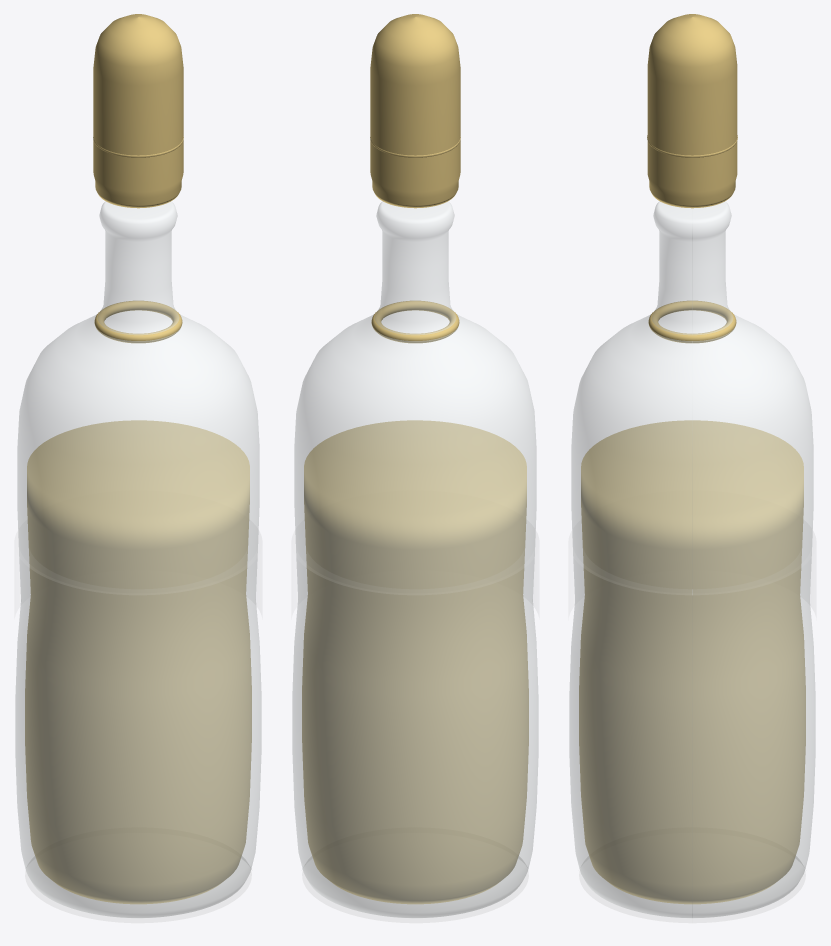
The model's file is perfume-bottle.glb.
3 renders of one model, left to right at view 1: azimuth 30°, elevation 25°; view 2: azimuth 150°, elevation 25°; view 3: azimuth 270°, elevation 25°, orthographic.
Visible parts, largest first — view 1: BottleBody, Liquid, Cap, Base, NeckRing; view 2: BottleBody, Liquid, Cap, Base, NeckRing; view 3: BottleBody, Liquid, Cap, Base, NeckRing.
Part boxes in pixels (x1,y1,x2,y2): BottleBody: (15,201,261,917); Liquid: (25,420,251,904); Cap: (93,14,183,208); Base: (25,856,251,923); NeckRing: (94,300,182,343); BottleBody: (292,201,538,917); Liquid: (302,420,528,904); Cap: (370,14,460,208); Base: (302,856,528,923); NeckRing: (371,300,459,343); BottleBody: (569,201,815,918); Liquid: (579,420,805,904); Cap: (647,14,737,208); Base: (579,856,805,923); NeckRing: (648,300,736,343).
Bounding box in the file's own units: 1.27 × 4.88 × 1.27.
